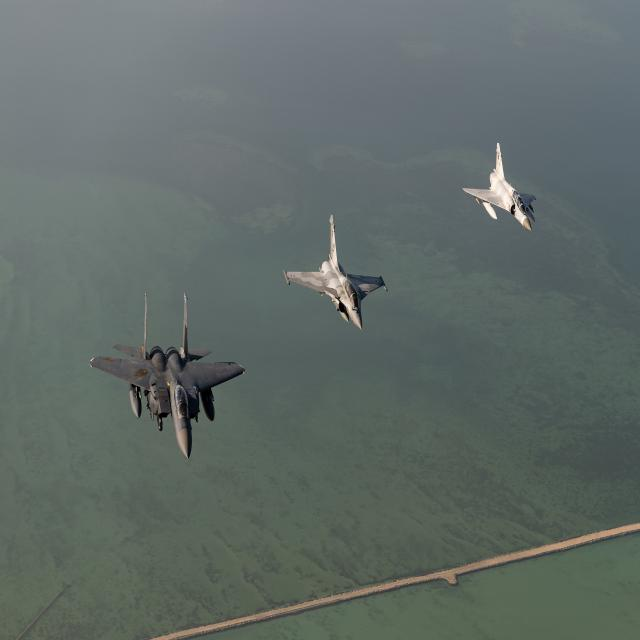MIL_Plane: (89, 292, 245, 459), (283, 204, 388, 321), (462, 142, 536, 232)
